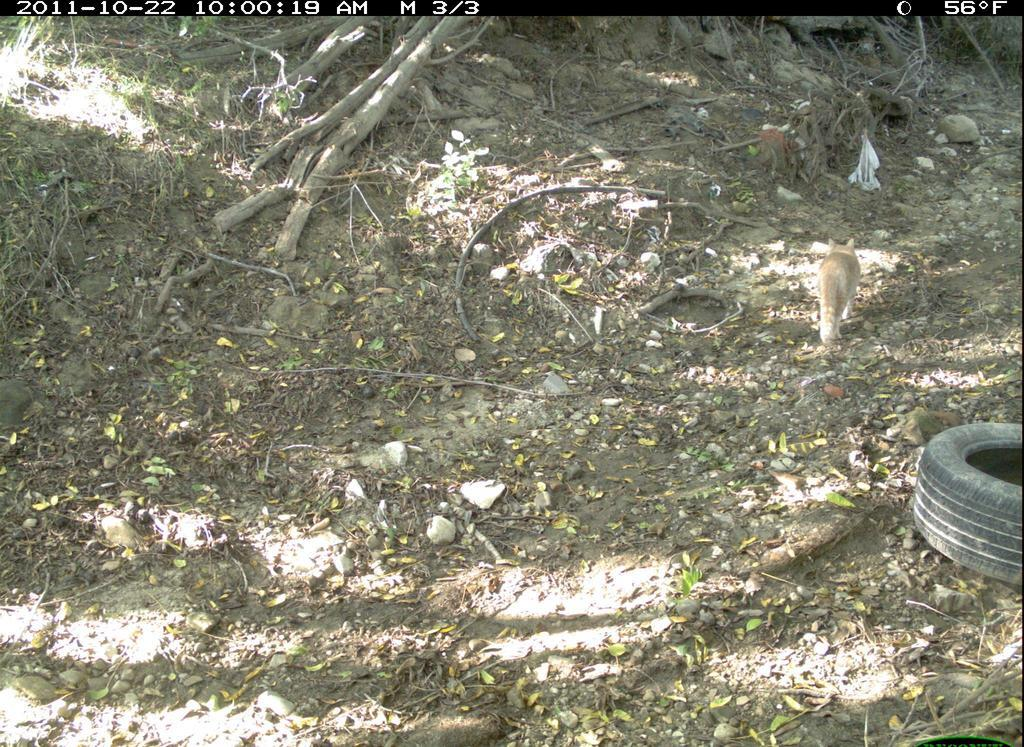cat: (811, 233, 869, 351)
